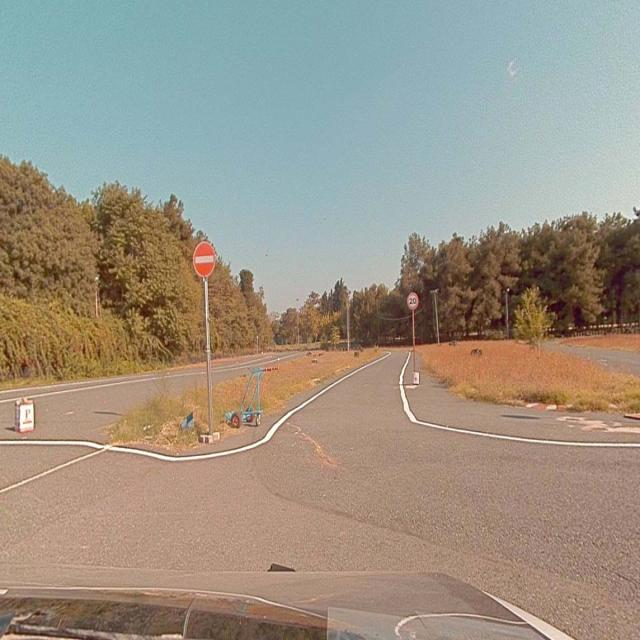20: (408, 292, 418, 310)
girisyok: (194, 242, 216, 276)
